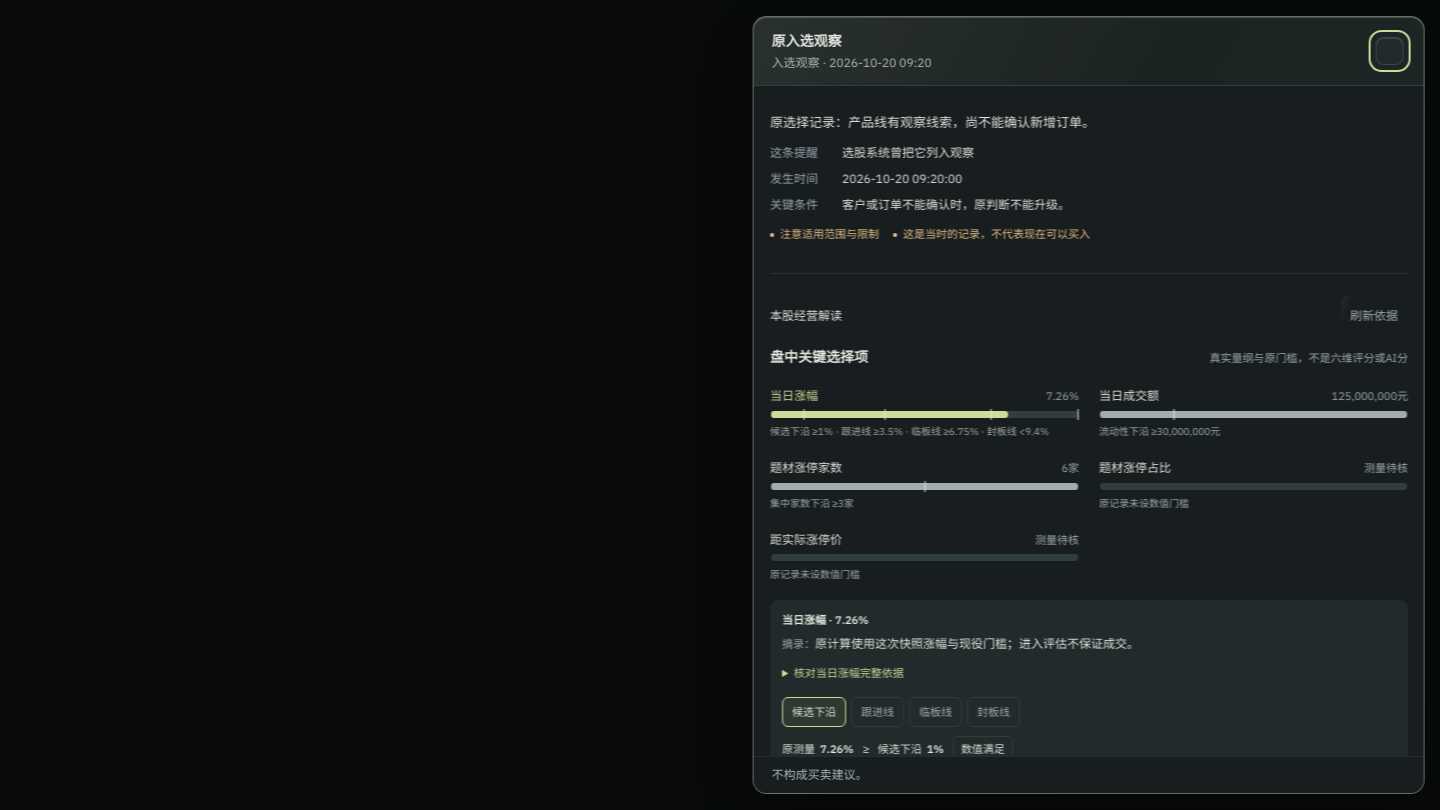
Test case: notifications render only archived original measurements and retain a missing denominator and missing actual limit price
Click the button with aria-label "核对题材涨停占比原测量" at (1252, 485), box [1098, 451, 1407, 519]
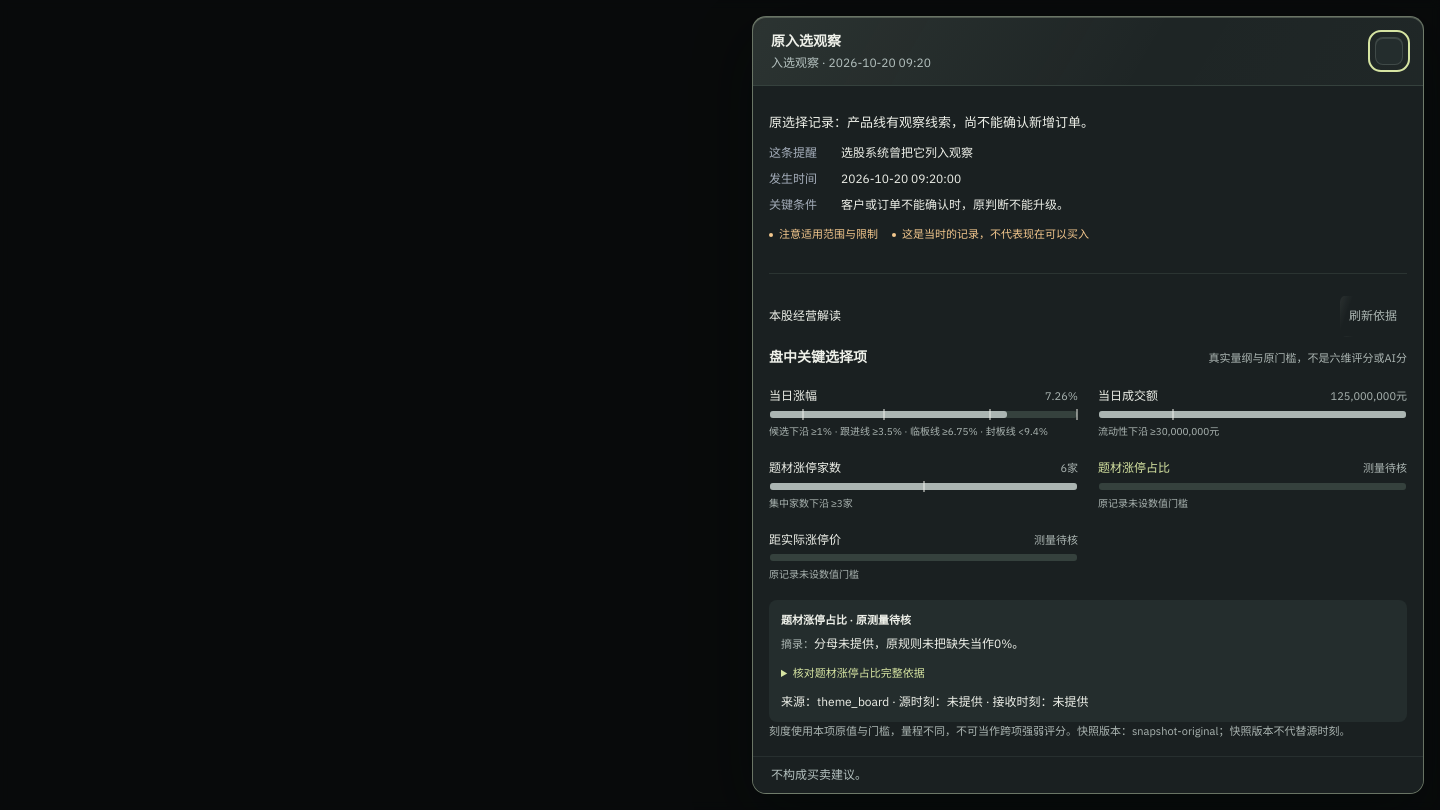
expect the element named "当前原测量依据" shows "未把缺失当作0%": met, box [814, 636, 1024, 651]
Click the button with aria-label "核对距实际涨停价原测量" at (924, 557), box [769, 523, 1078, 590]
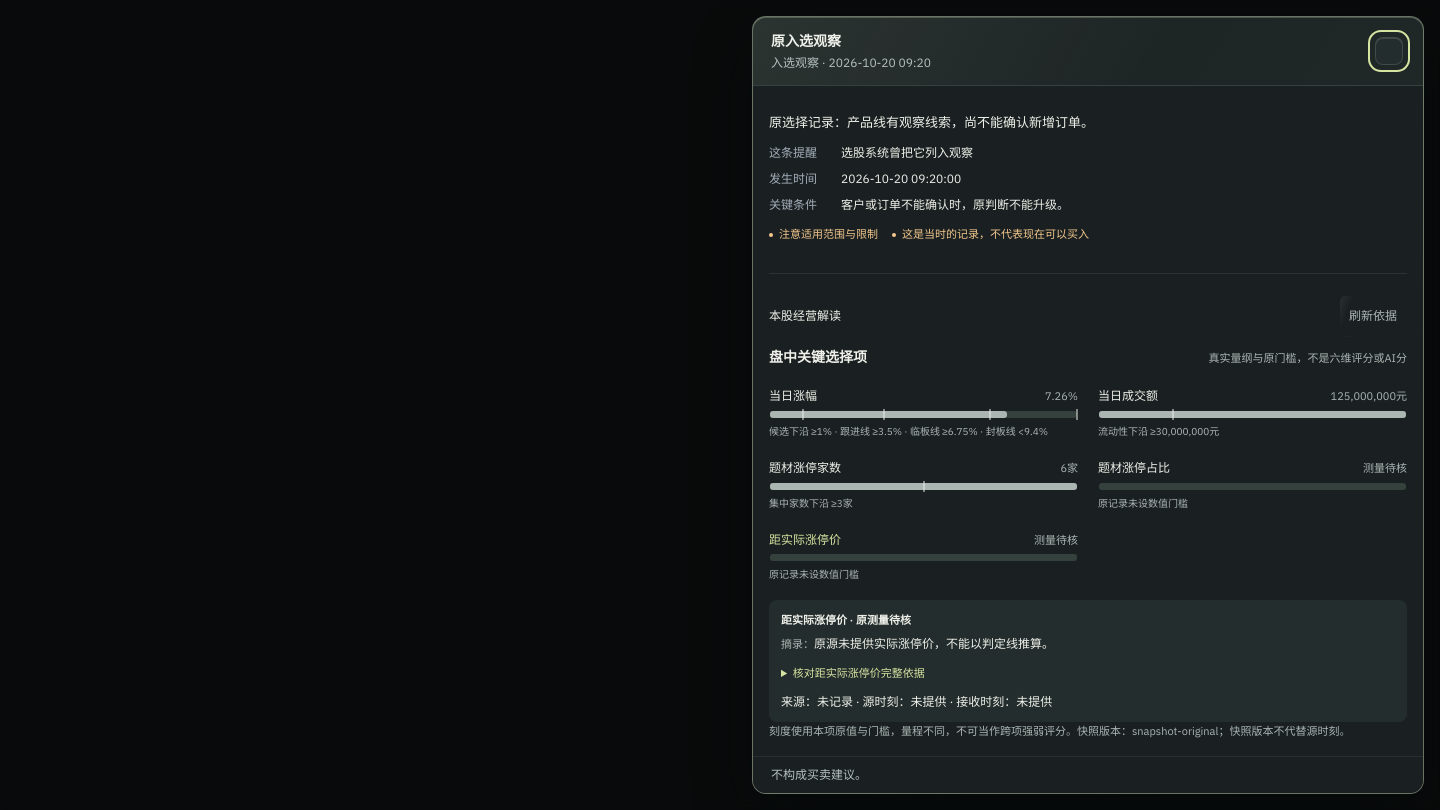
expect the element named "当前原测量依据" shows "不能以判定线推算": met, box [814, 636, 1054, 651]
